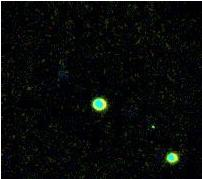star: (19, 70, 49, 100)
